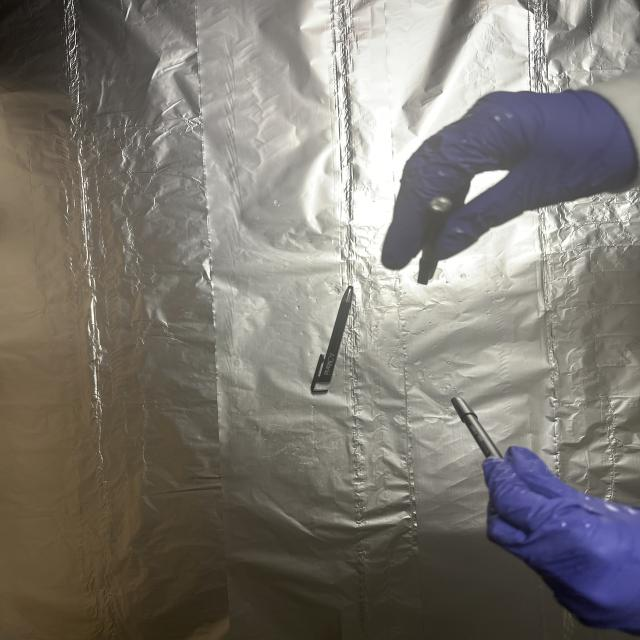gloves_contaminated: (382, 90, 638, 268), (483, 446, 640, 635)
